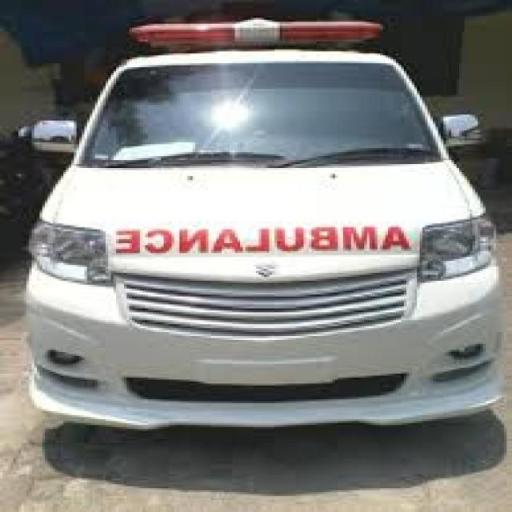Police car: (18, 22, 510, 427)
